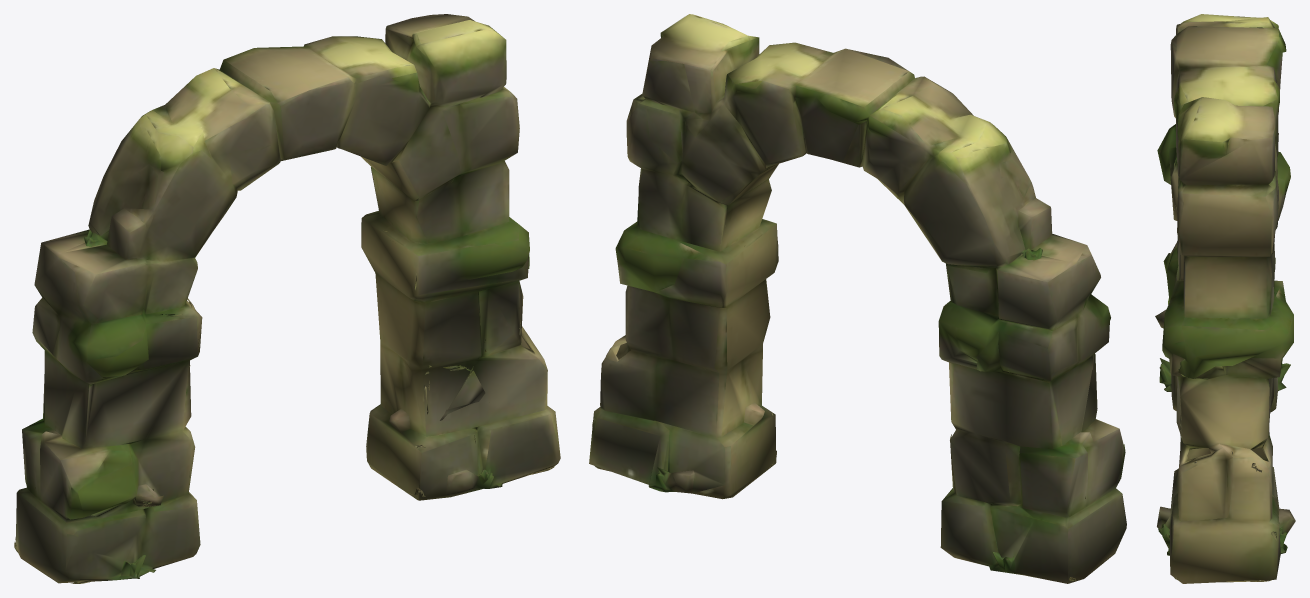
The picture shows the model from 3 angles, left to right: view 1: azimuth 30°, elevation 25°; view 2: azimuth 150°, elevation 25°; view 3: azimuth 270°, elevation 25°; orthographic projection. The views are drawn at different scales.
Visible parts, largest first — view 1: world; view 2: world; view 3: world.
Boxes of the visible parts, x1,y1,x2,y2 form: world: (14, 14, 560, 583); world: (589, 14, 1126, 583); world: (1155, 14, 1295, 583).
Size of the model in its own units: 0.9922 by 0.865 by 0.2528.
1 material, 1 textured.
